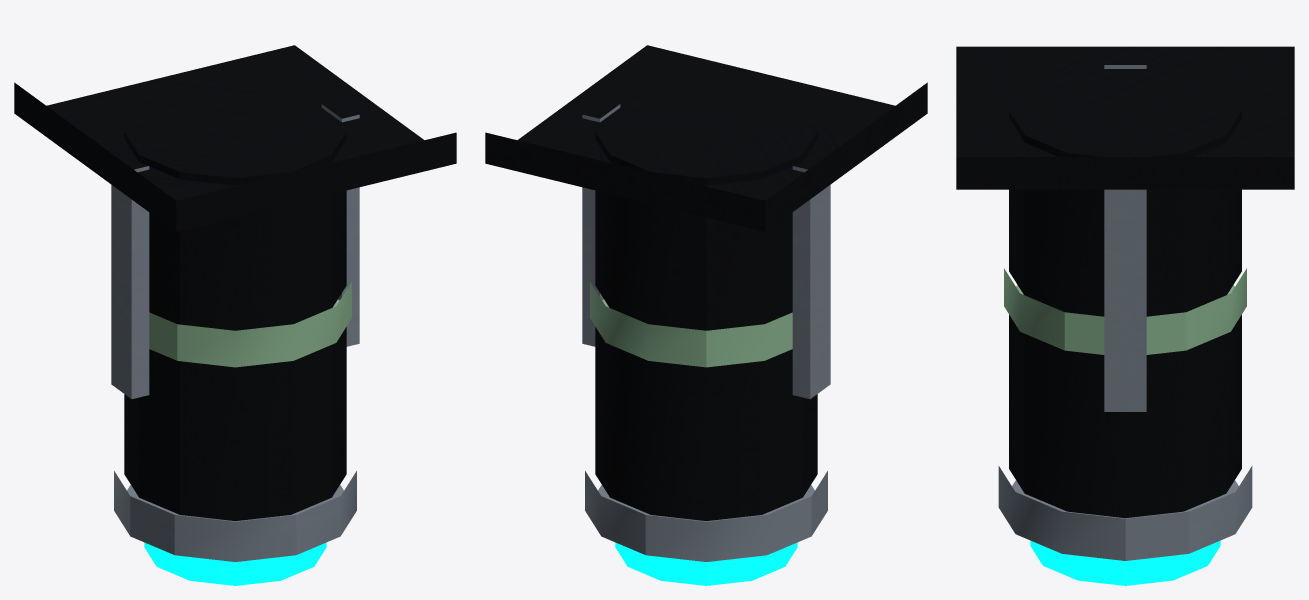
Rendered from v5_branch_caustic.glb.
3 renders of one model, left to right at view 1: azimuth 30°, elevation 25°; view 2: azimuth 150°, elevation 25°; view 3: azimuth 270°, elevation 25°, orthographic. The views are drawn at different scales.
Visible parts, largest first — view 1: Projector_Can, Mount_Plate, Lens_Ring, Yoke, Can_Band, Caustic_Lens; view 2: Projector_Can, Mount_Plate, Lens_Ring, Yoke, Can_Band, Caustic_Lens; view 3: Projector_Can, Mount_Plate, Lens_Ring, Yoke, Can_Band, Caustic_Lens.
Part boxes in pixels (x1,y1,x2,y2): Projector_Can: (124, 132, 346, 520); Mount_Plate: (14, 45, 456, 231); Lens_Ring: (114, 471, 356, 561); Yoke: (111, 104, 359, 399); Can_Band: (149, 282, 351, 367); Caustic_Lens: (144, 542, 326, 585); Projector_Can: (595, 132, 817, 520); Mount_Plate: (485, 45, 927, 231); Lens_Ring: (585, 471, 827, 561); Yoke: (582, 104, 830, 399); Can_Band: (590, 282, 792, 367); Caustic_Lens: (615, 542, 797, 585); Projector_Can: (1009, 111, 1241, 518); Mount_Plate: (956, 46, 1294, 189); Lens_Ring: (998, 466, 1252, 560); Yoke: (1104, 65, 1146, 411); Can_Band: (1004, 268, 1246, 354); Caustic_Lens: (1030, 540, 1220, 585).
Size of what is drawn, in the model's own units: 0.32 by 0.48 by 0.32.
4 materials, 2 textured.
